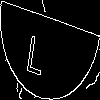L: (25, 25, 48, 76)
